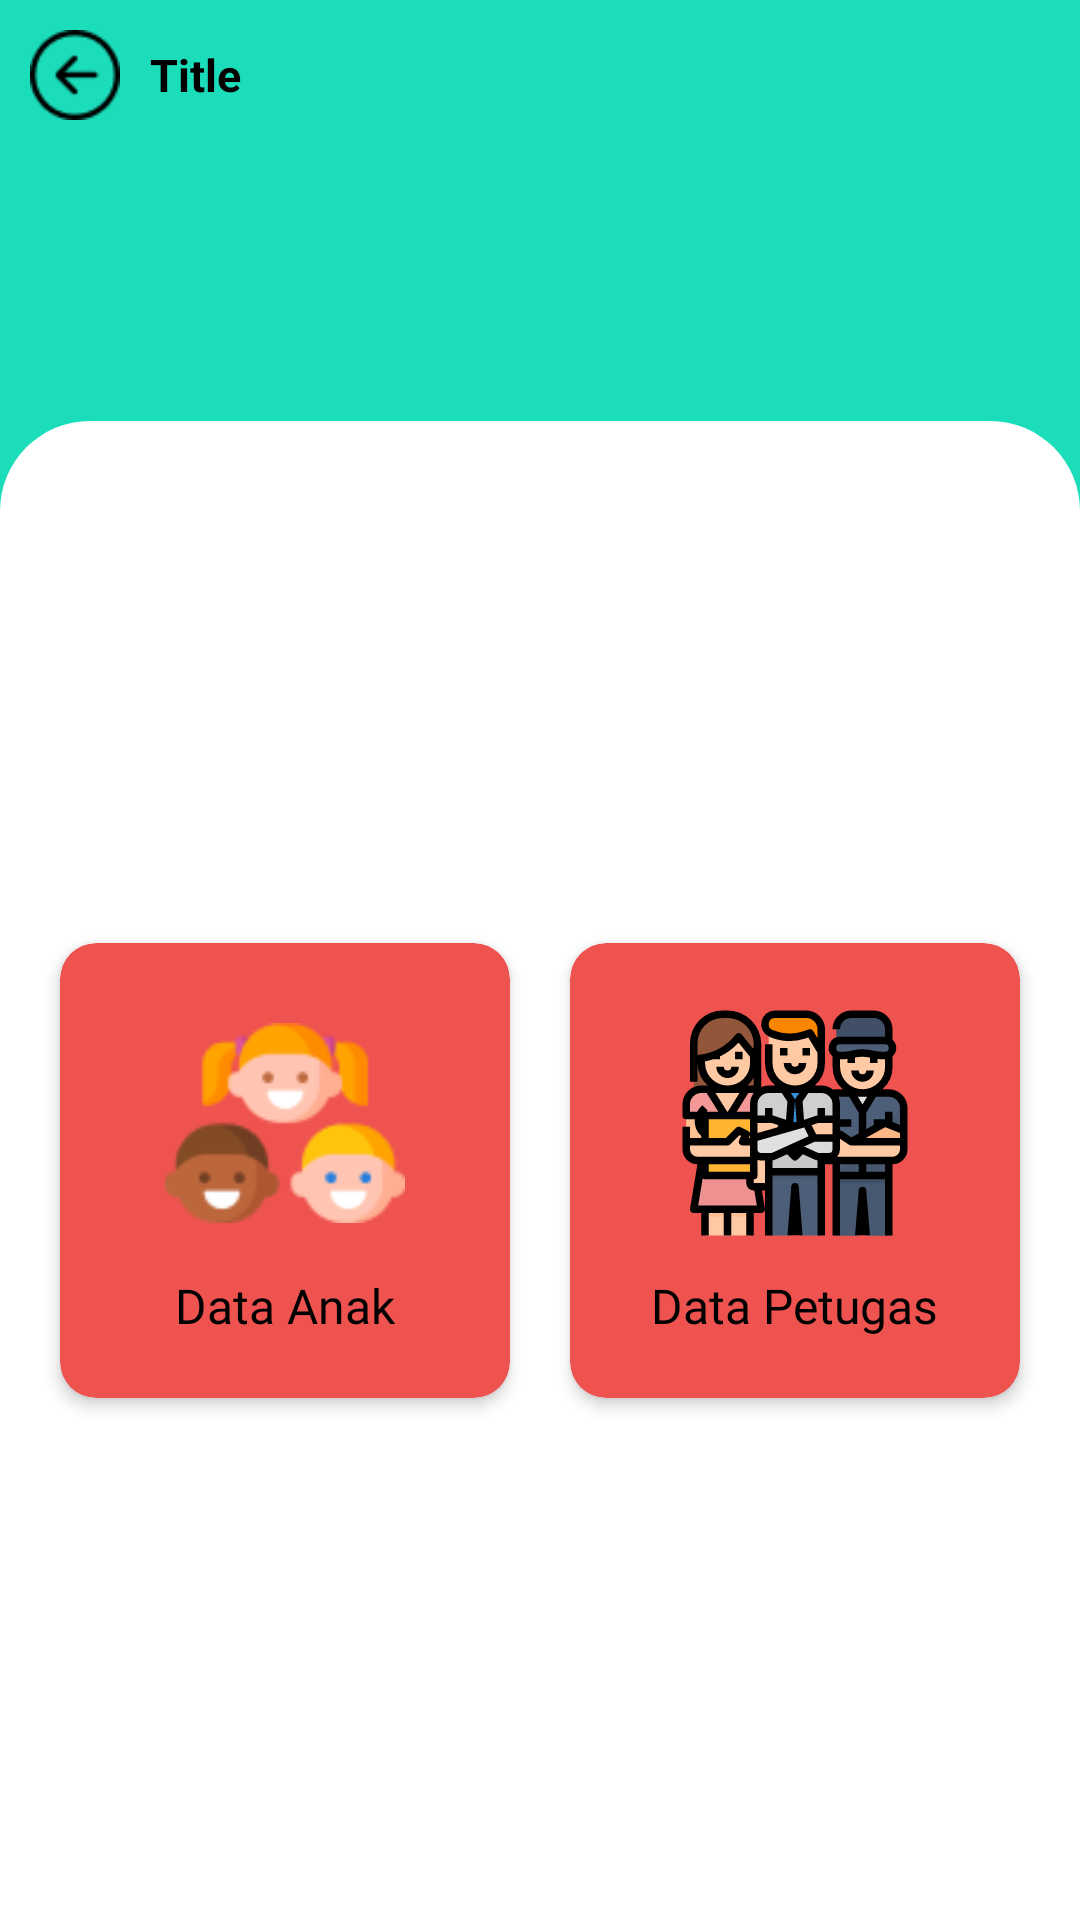

Screen size 1080*1920. Icon name, then its center in pixels as [x,y]:
back: [75,75]
team: [795,1123]
